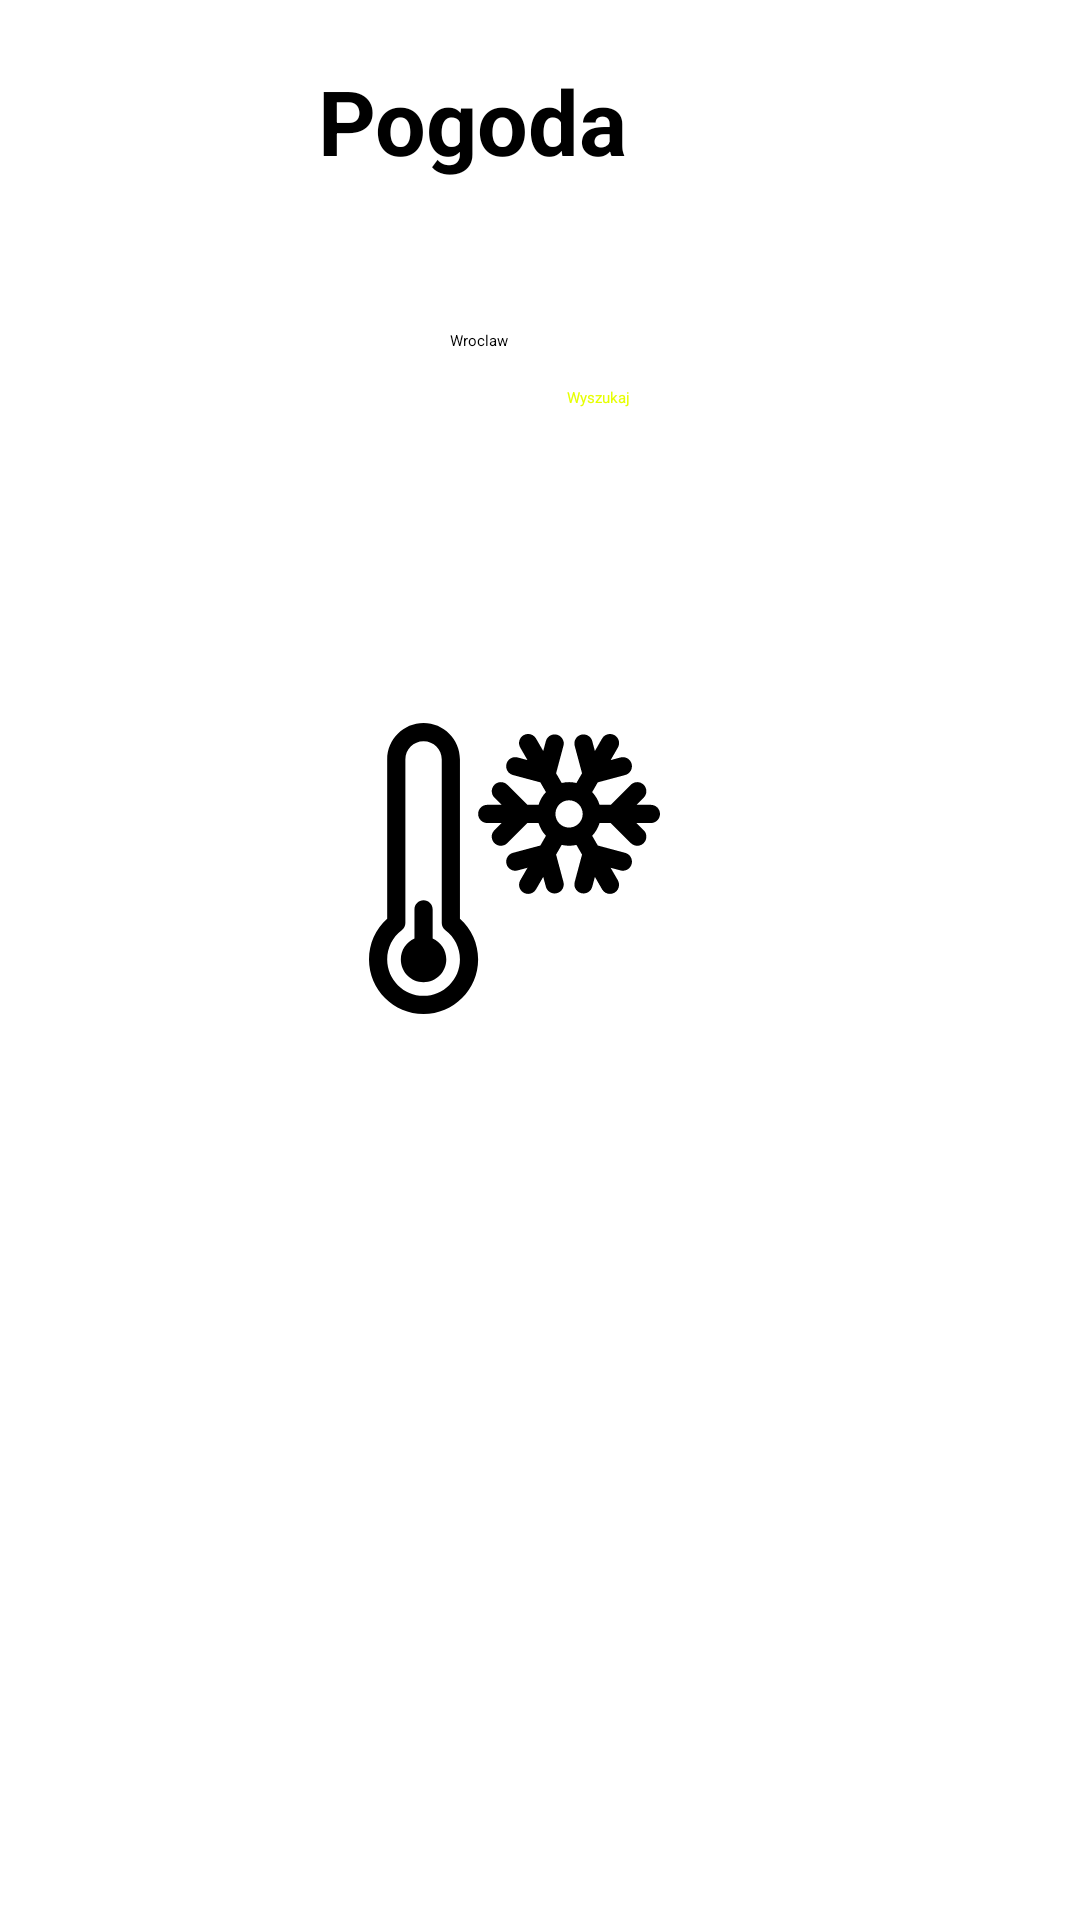

Icon bounding boxes for this 1080w x 1920h phone screenshot, format (x1, y1, x2, y2):
cold: (369, 723, 660, 1014)
